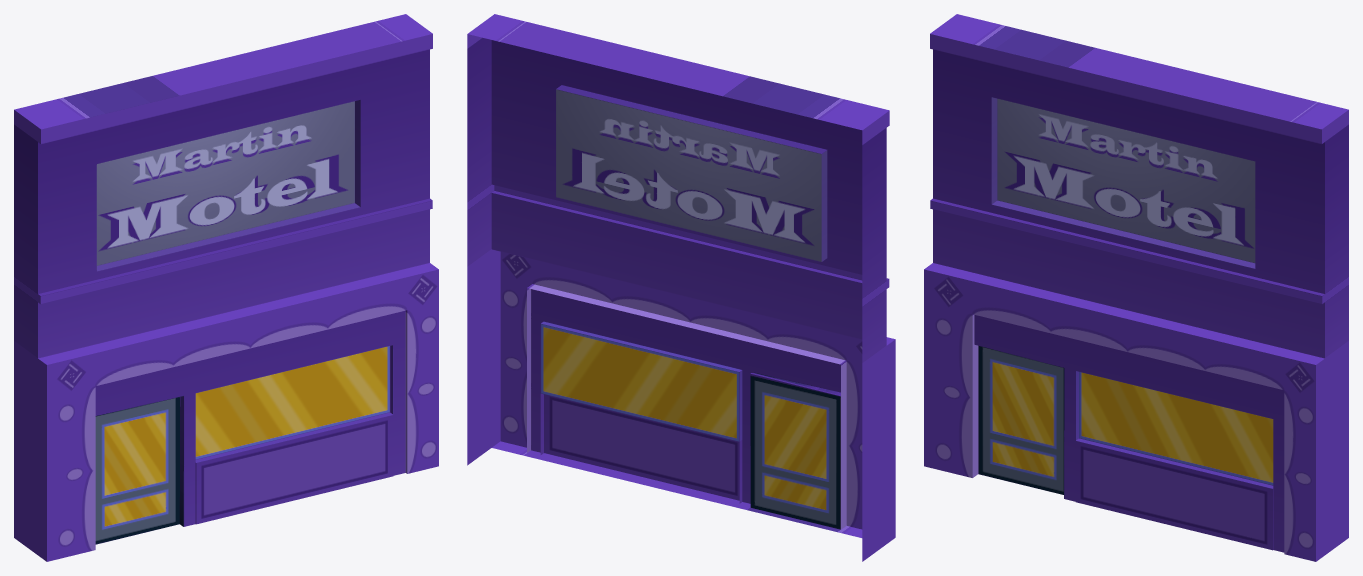
Rendered from Bldg6.fbx.
3 renders of one model, left to right at view 1: azimuth 30°, elevation 25°; view 2: azimuth 150°, elevation 25°; view 3: azimuth 330°, elevation 25°, orthographic.
Parts seen in each view (by area): view 1: Bldg6; view 2: Bldg6; view 3: Bldg6.
Boxes of the visible parts, x1=… form: Bldg6: x1=14, y1=14, x2=438, y2=561; Bldg6: x1=467, y1=14, x2=895, y2=561; Bldg6: x1=924, y1=14, x2=1348, y2=561.
Size of the model in its own units: 6.31 by 6.59 by 0.9179.
Materials: 1 (1 with a texture image).
